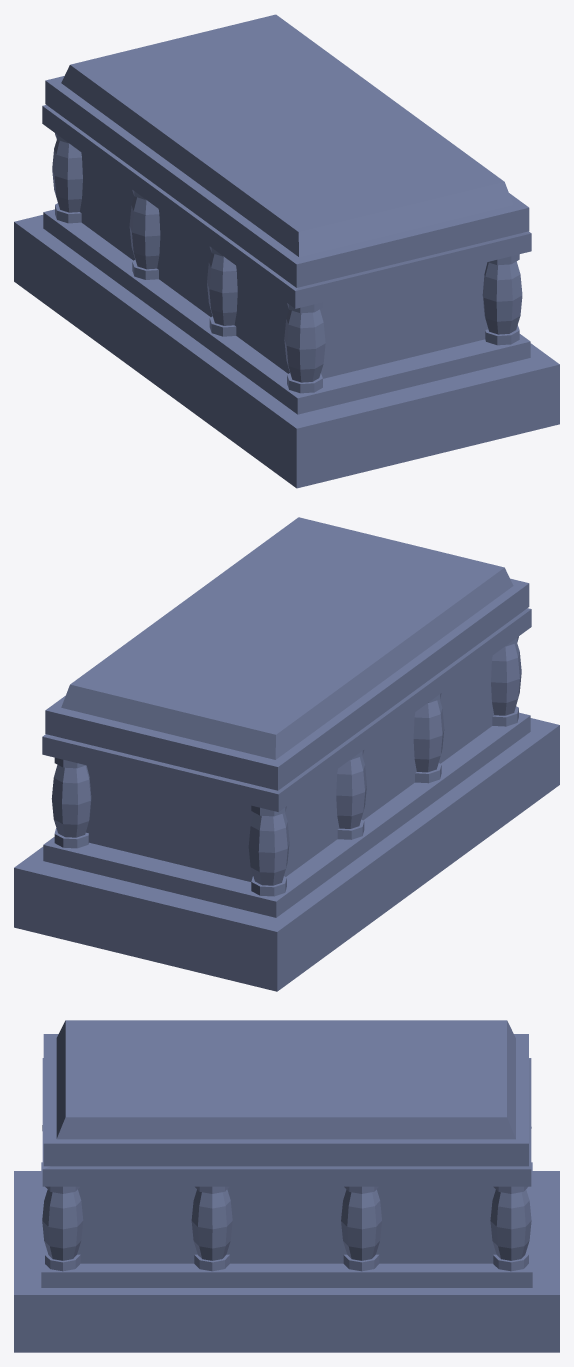
File: Sarcophage 01.fbx
3 renders of one model, top to bottom at view 1: azimuth 30°, elevation 25°; view 2: azimuth 150°, elevation 25°; view 3: azimuth 270°, elevation 25°, orthographic. The views are drawn at different scales.
Visible parts, largest first — view 1: Sarcophage 01, Sarcophage 01 Lid; view 2: Sarcophage 01, Sarcophage 01 Lid; view 3: Sarcophage 01, Sarcophage 01 Lid.
Part boxes in pixels (bbox=[...]): Sarcophage 01: bbox=[14, 105, 559, 488]; Sarcophage 01 Lid: bbox=[45, 14, 529, 287]; Sarcophage 01: bbox=[14, 608, 559, 991]; Sarcophage 01 Lid: bbox=[45, 517, 529, 790]; Sarcophage 01: bbox=[14, 1058, 559, 1352]; Sarcophage 01 Lid: bbox=[43, 1020, 528, 1166].
Size of the model in its own units: 187 by 156 by 347.
